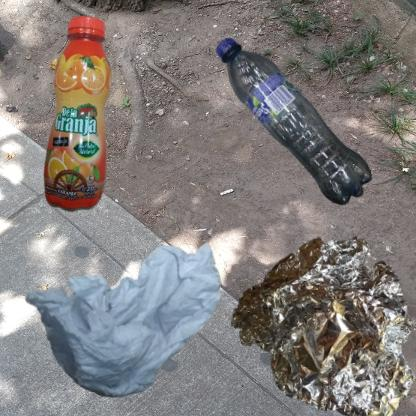aluminio: (213, 213, 416, 416)
botella: (213, 10, 398, 256), (10, 10, 183, 265)
papel: (10, 213, 236, 416)
